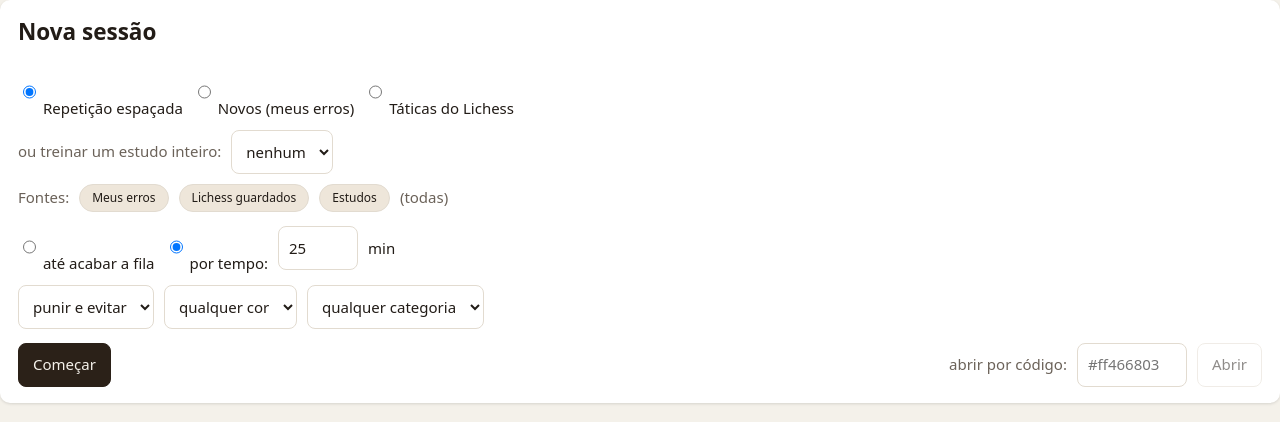
o tipo sozinho já conta como filtro; desfazer some com a contagem
The width and height of the screenshot is (1280, 422).
Select "só punir" in the dropdown named "Tipo" at x=86, y=307, box 18,285 -> 154,329
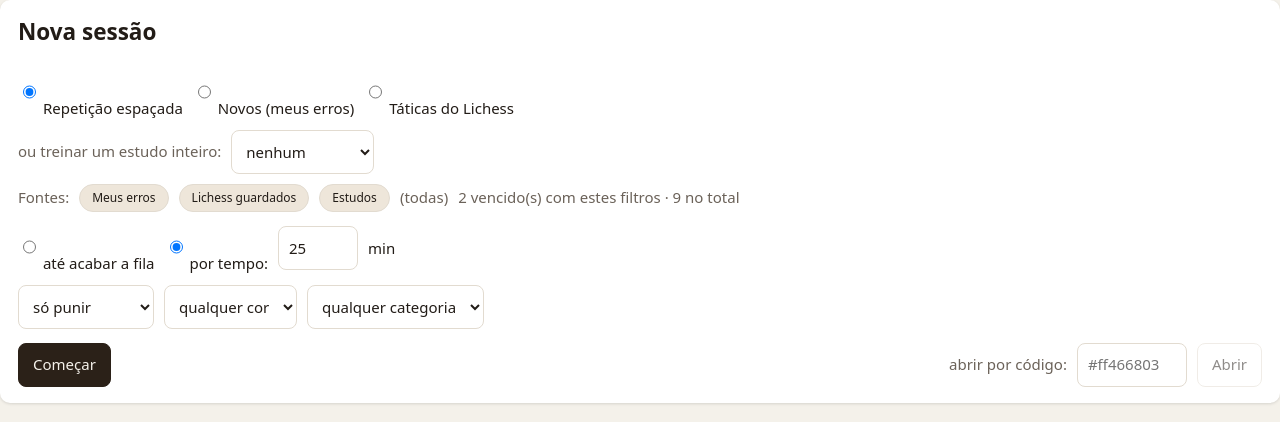
Check: the text "2 vencido(s) com estes filtros · 9 no total" is shown, box 458,187 -> 740,209
Select "punir e evitar" in the dropdown named "Tipo" at x=86, y=307, box 18,285 -> 154,329
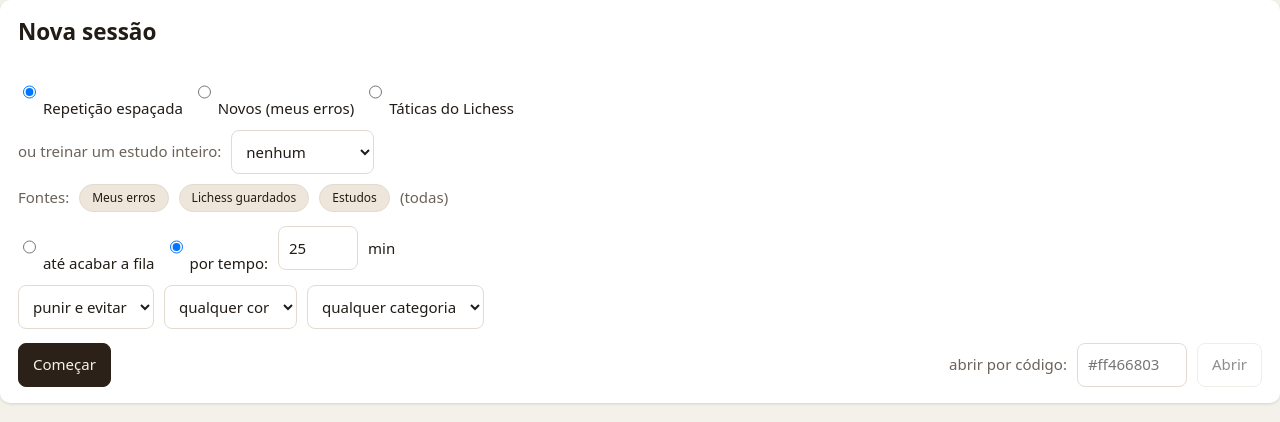
Check: the text "com estes filtros" is gone
